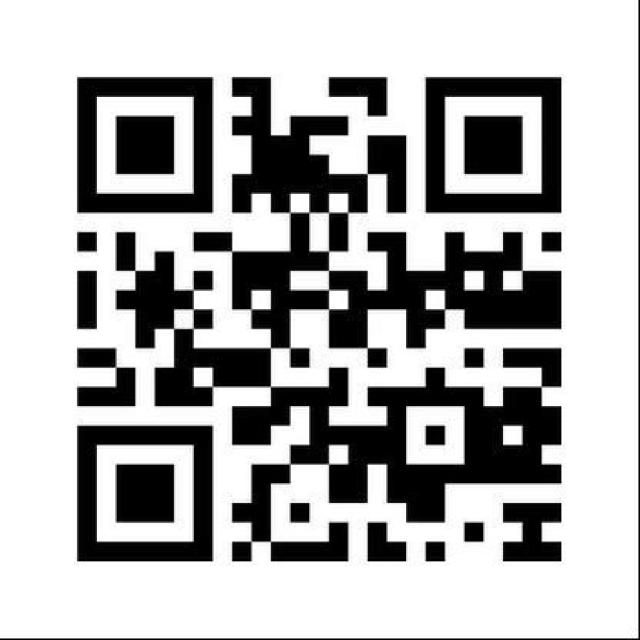QRCode: (69, 59, 574, 579)
